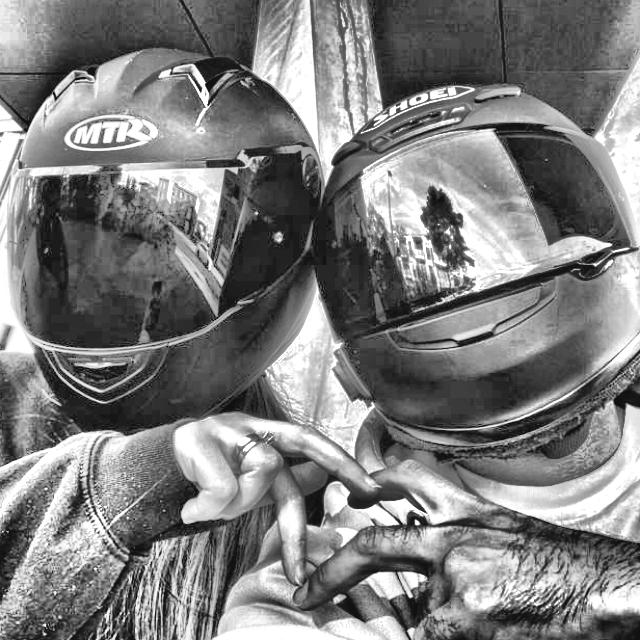Helmet: (305, 72, 640, 472), (0, 37, 330, 439)
